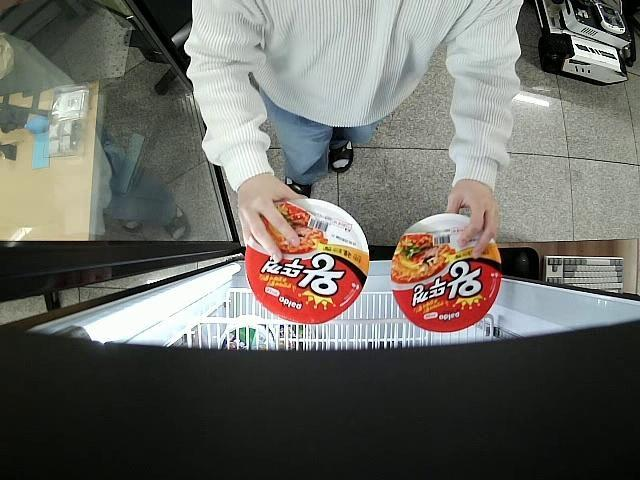10_wangTtukkeong: (246, 197, 369, 324), (391, 214, 502, 333)
